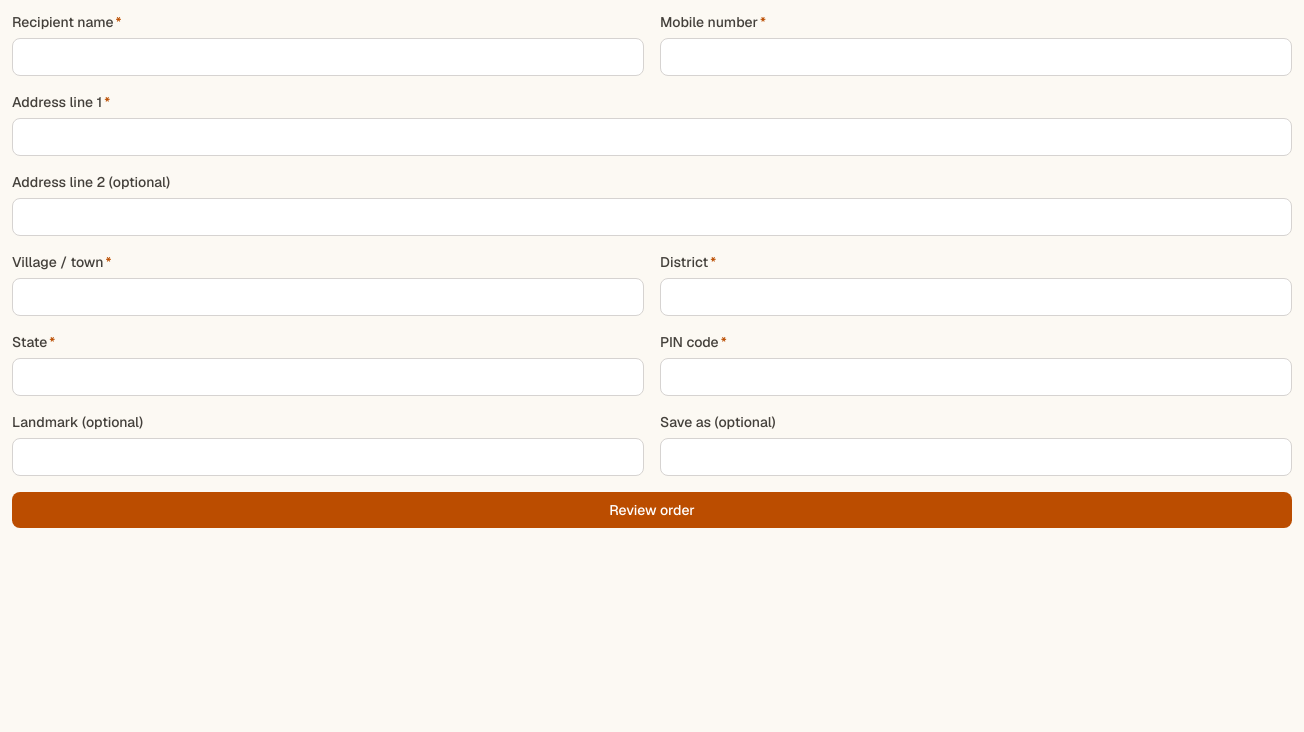
CheckoutForm › blocks submission and shows errors for an empty inline address
Click the button "Review order".
click(652, 510)  # box [12,492,1292,528]
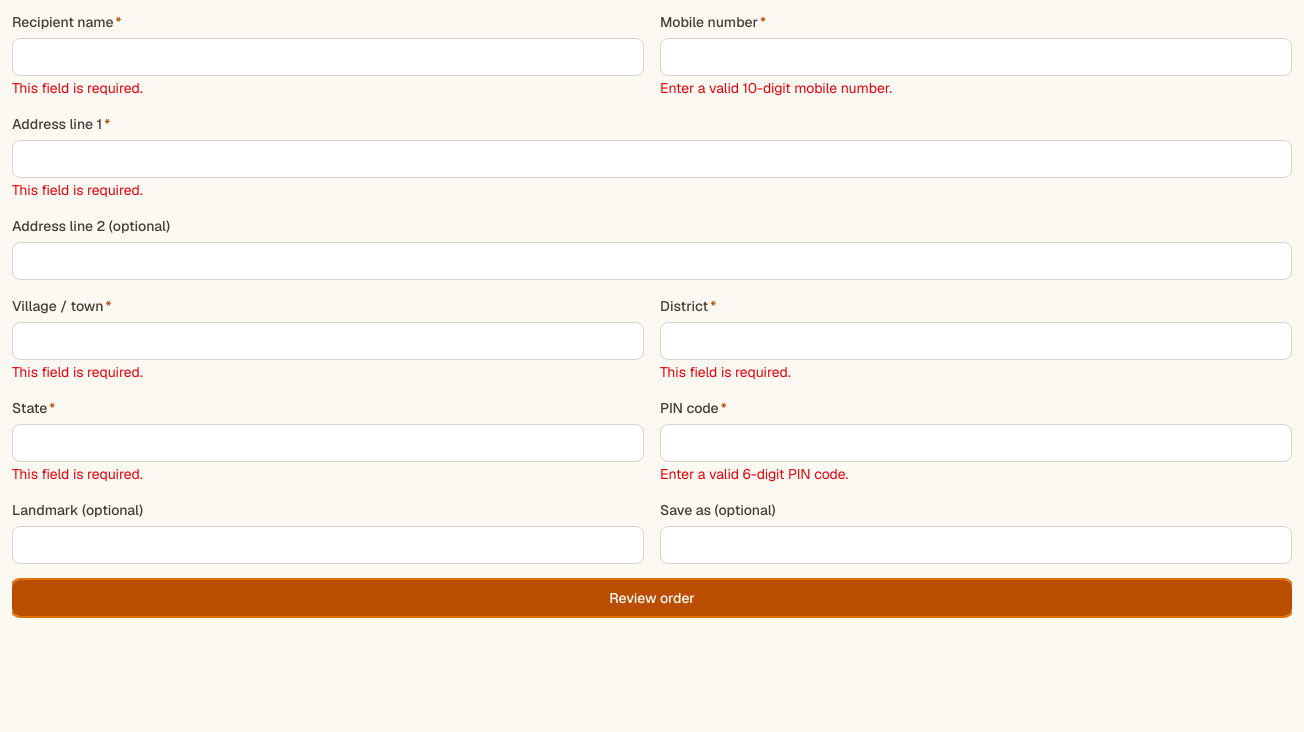
expect the text "This field is required." below "Recipient name" is shown: met, box [12,79,143,97]
expect the text "Enter a valid 10-digit mobile number." is shown: met, box [660,79,892,97]
expect the text "Enter a valid 6-digit PIN code." is shown: met, box [660,465,848,483]
